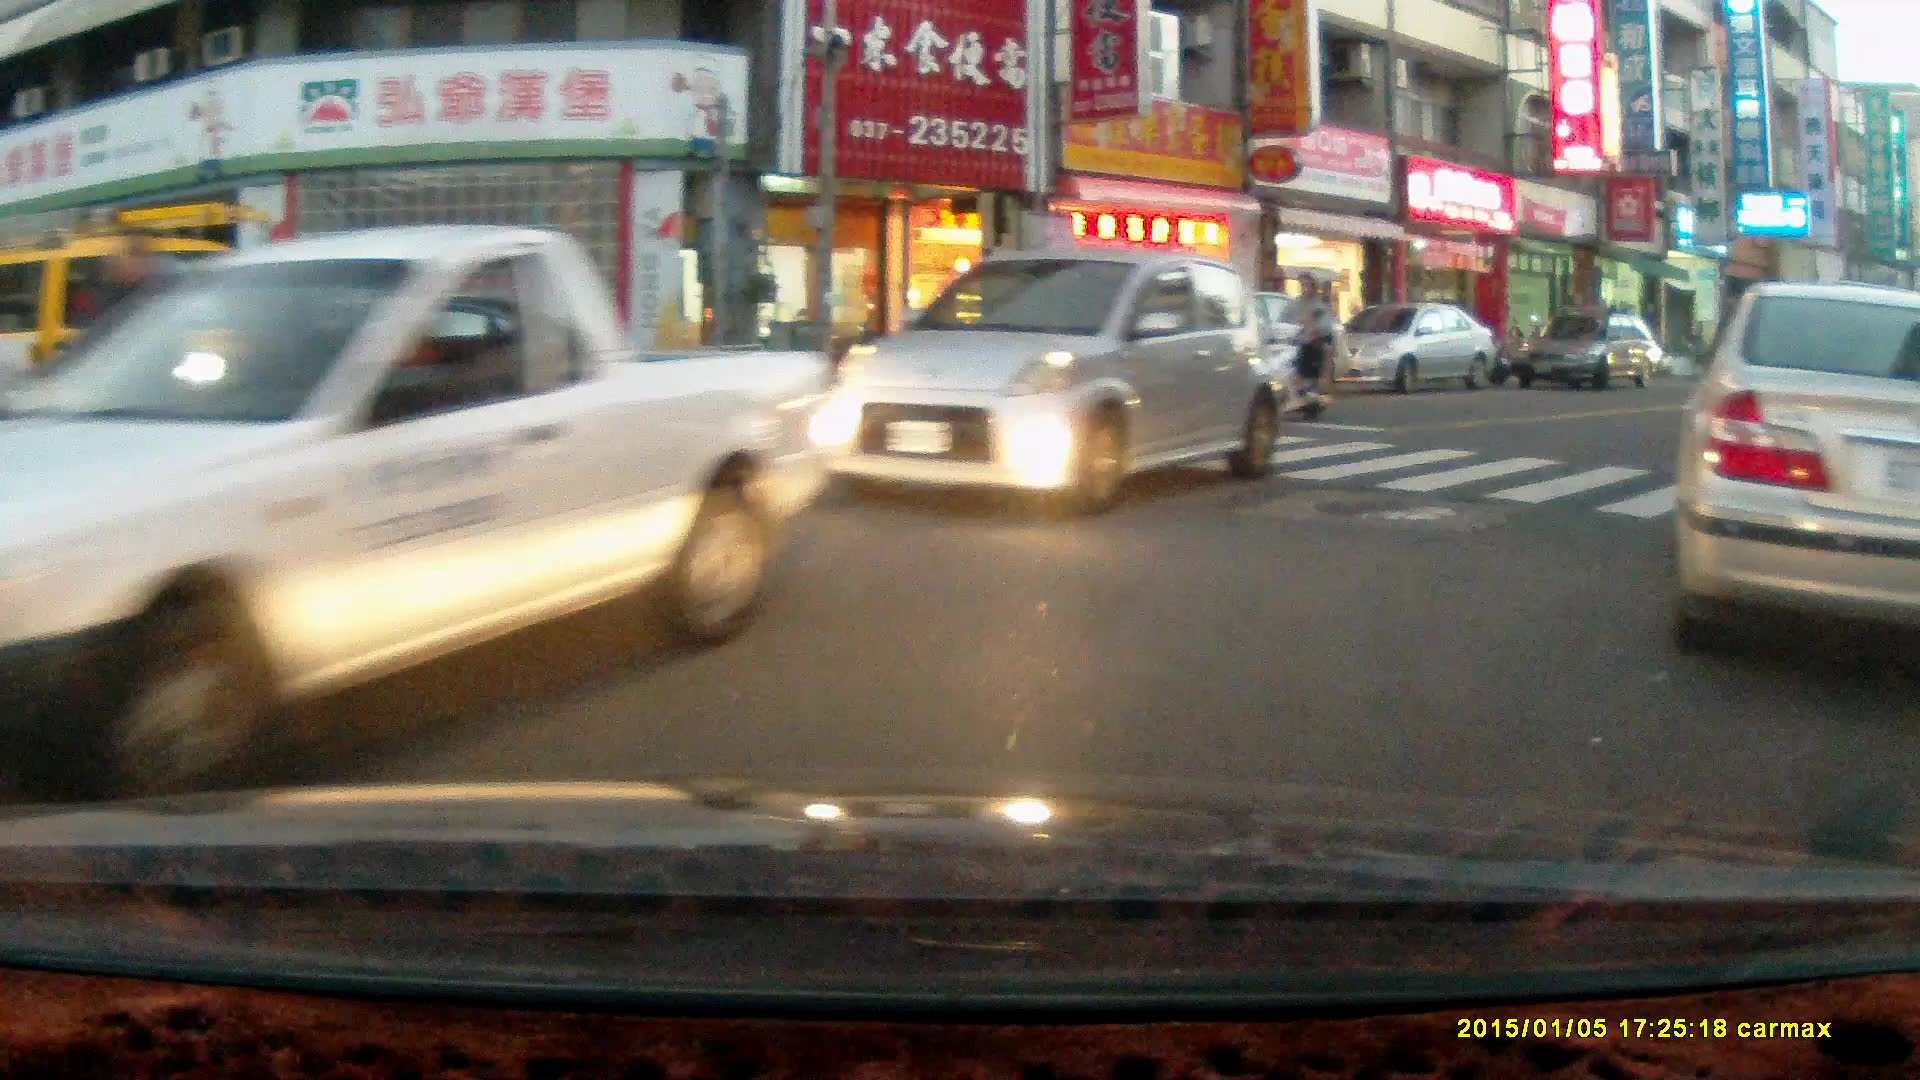rider: (1251, 262, 1336, 427)
vehicle: (9, 220, 859, 791), (805, 251, 1297, 513), (1674, 280, 1919, 683), (288, 290, 613, 437), (1332, 304, 1495, 393), (1511, 315, 1665, 391)
